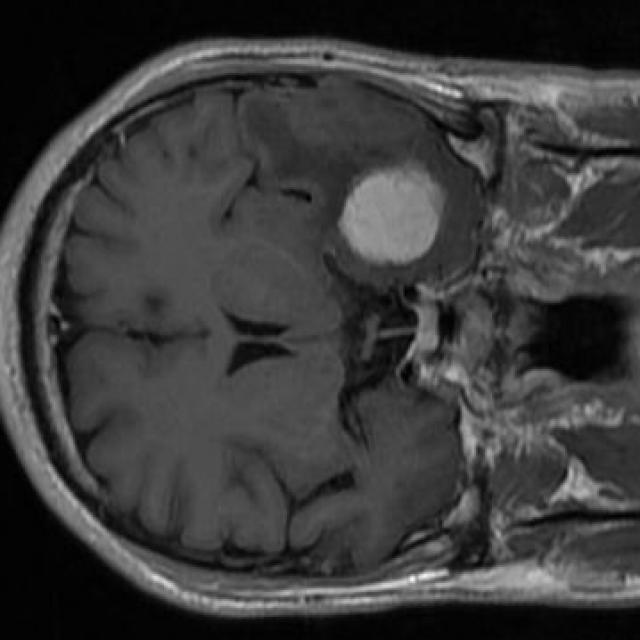meningioma: (337, 169, 442, 264)
